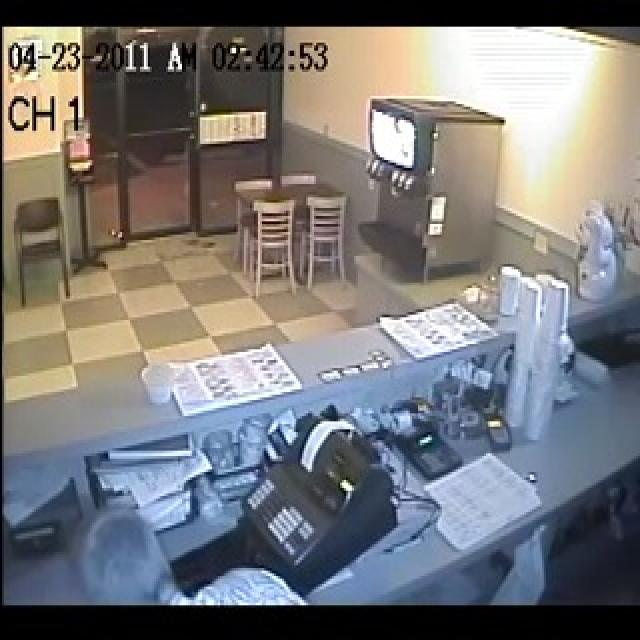thief: (57, 496, 313, 605)
